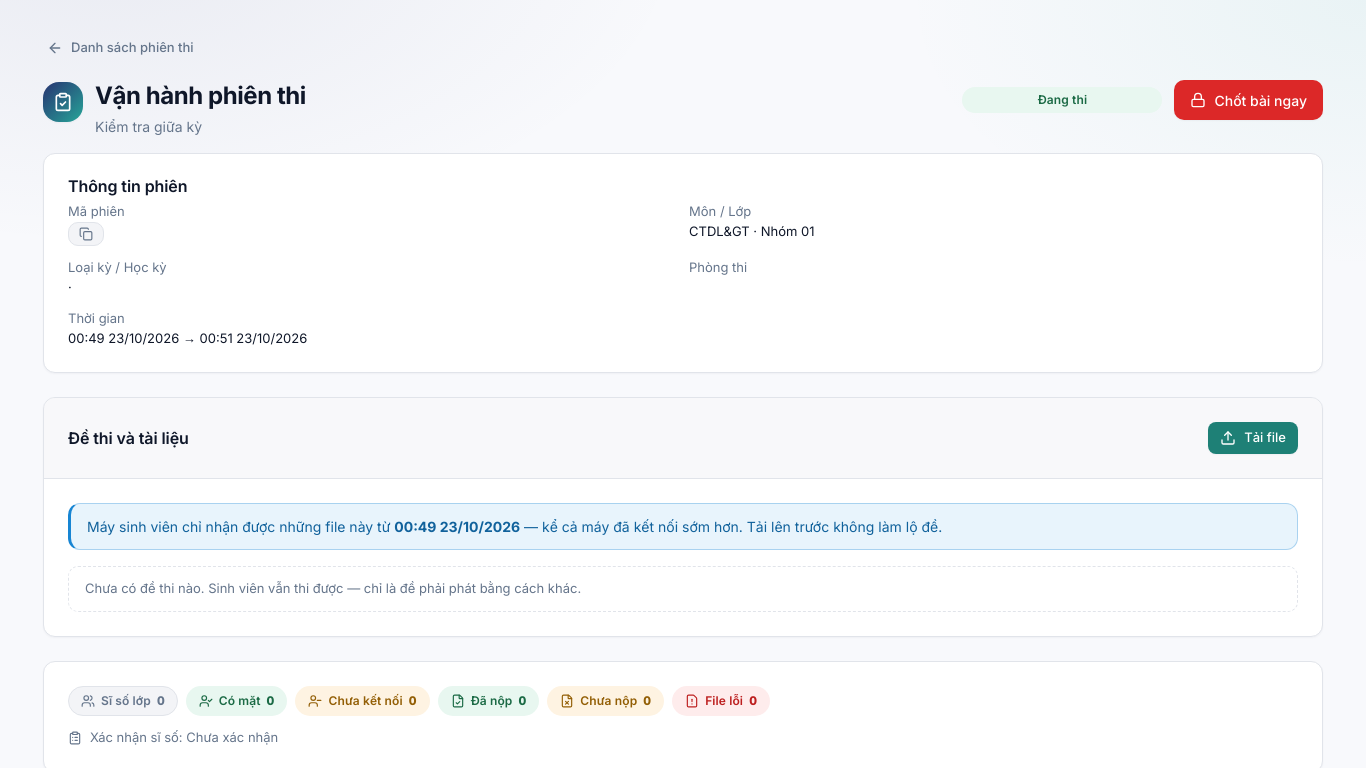
Test case: ExamSessionLobbyPage › finalize › asks for confirmation before finalizing, and only finalizes on confirm
The image size is (1366, 768).
Click the button "Chốt bài ngay": click(1249, 100) x1=1174 y1=80 x2=1323 y2=120
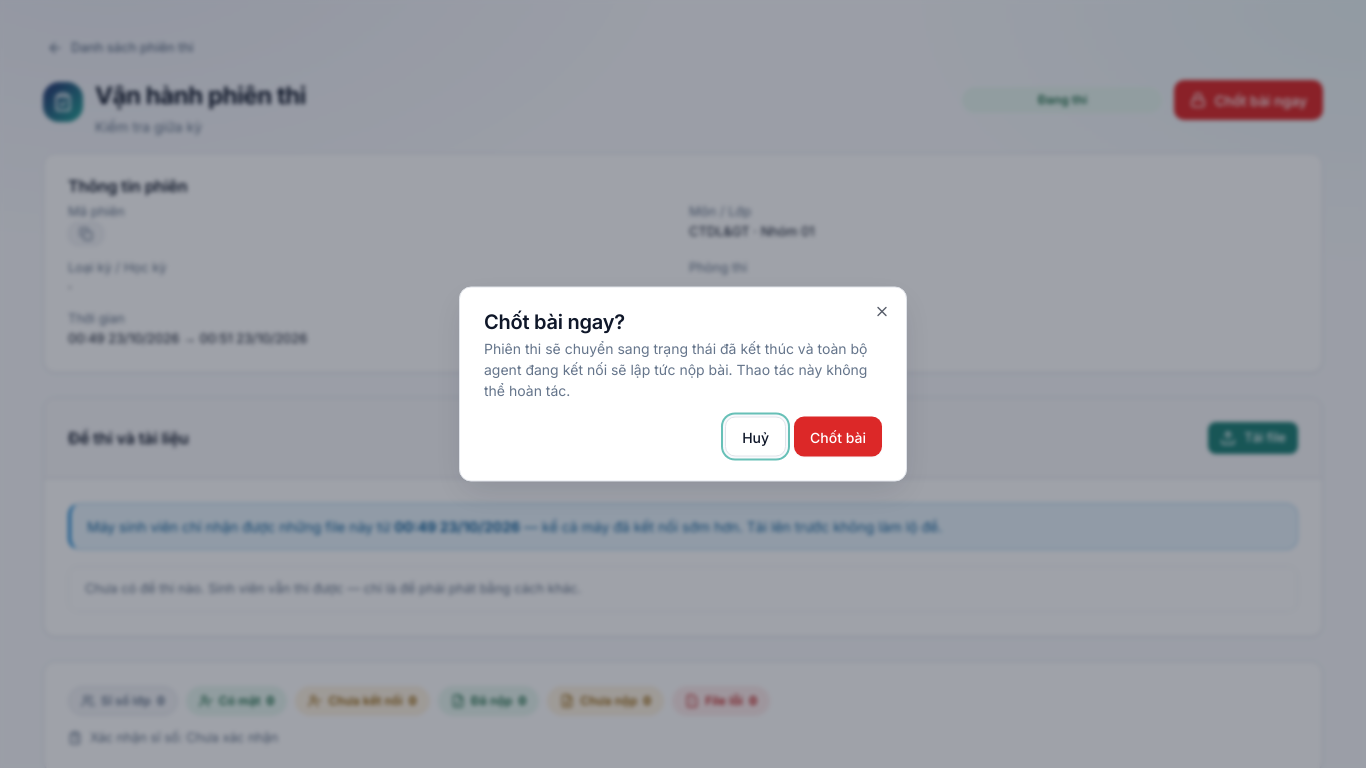
Expected: the text "không thể hoàn tác" is shown, x1=484 y1=340 x2=868 y2=398
Click the button "Chốt bài": click(838, 436) x1=794 y1=416 x2=882 y2=456
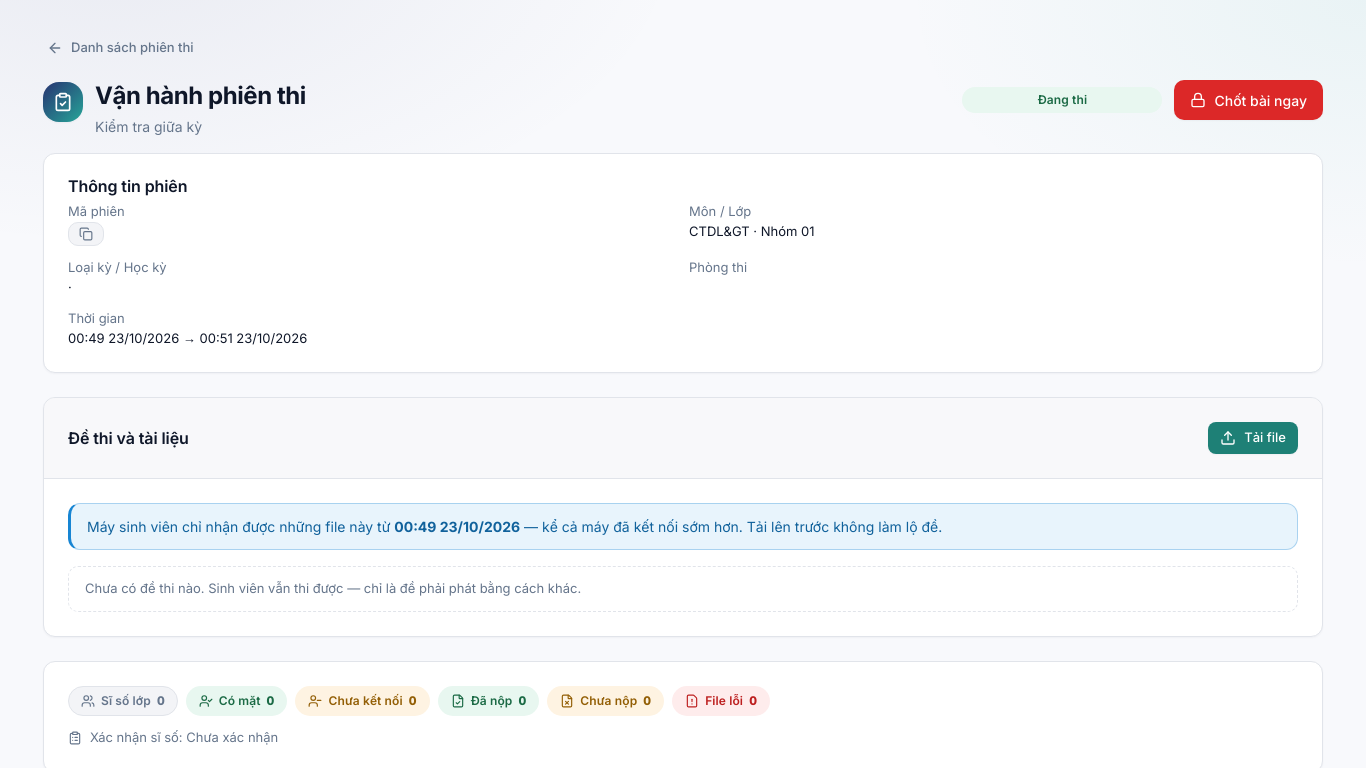
Expected: the text "không thể hoàn tác" is gone
